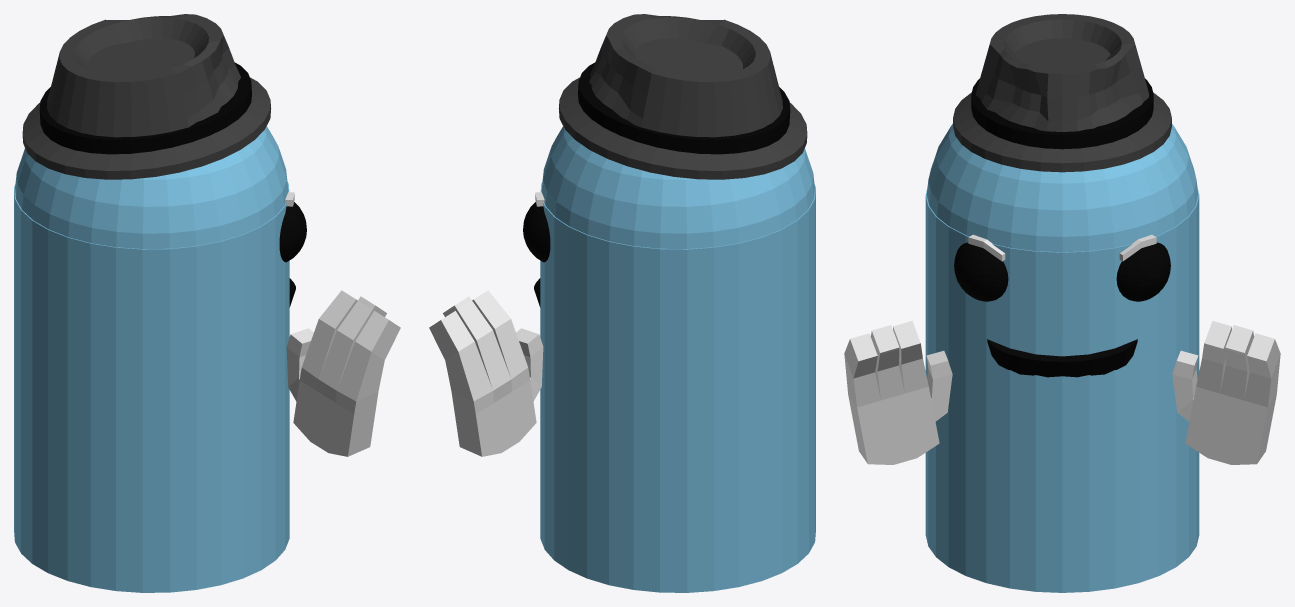
Rendered from Merry Blue Ghost Hands up.fbx.
The picture shows the model from 3 angles, left to right: view 1: azimuth 30°, elevation 25°; view 2: azimuth 150°, elevation 25°; view 3: azimuth 270°, elevation 25°; orthographic projection.
Parts seen in each view (by area): view 1: Cylinder.007, Cylinder.005, Cube.006, Cylinder.004, Sphere.001; view 2: Cylinder.007, Cylinder.005, Cube.005, Cylinder.004, Sphere.001; view 3: Cylinder.007, Cylinder.005, Cube.005, Cube.006, Sphere.001, Cylinder.004, Cylinder.006, Cube.004.
Part boxes in pixels (x1,y1,x2,y2): Cylinder.007: (14, 126, 289, 592); Cylinder.005: (22, 14, 271, 179); Cube.006: (286, 290, 400, 456); Cylinder.004: (39, 62, 251, 154); Sphere.001: (279, 202, 306, 262); Cylinder.007: (540, 126, 815, 592); Cylinder.005: (558, 14, 807, 179); Cube.005: (429, 290, 543, 456); Cylinder.004: (578, 62, 790, 154); Sphere.001: (523, 202, 550, 262); Cylinder.007: (925, 124, 1199, 592); Cylinder.005: (953, 14, 1171, 172); Cube.005: (1172, 321, 1280, 464); Cube.006: (844, 321, 952, 464); Sphere.001: (954, 242, 1170, 301); Cylinder.004: (971, 78, 1153, 149); Cylinder.006: (987, 339, 1137, 377); Cube.004: (968, 234, 1156, 261).
Bounding box in the file's own units: 167 × 297 × 239.
